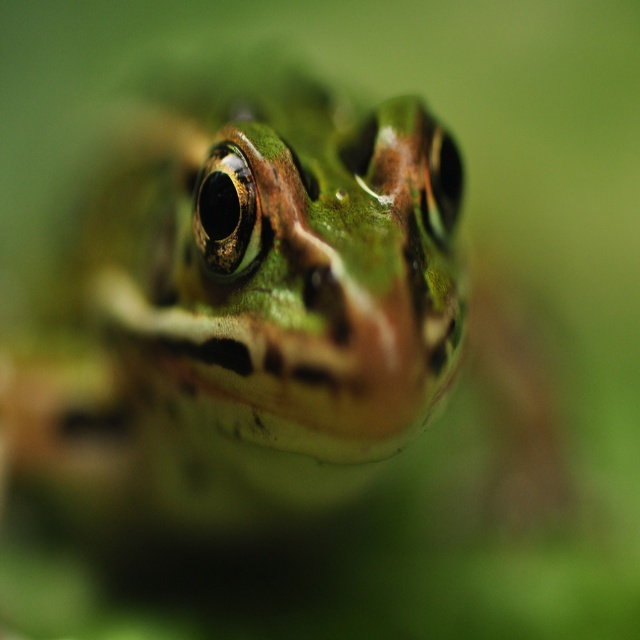Frog: (67, 80, 480, 553)
